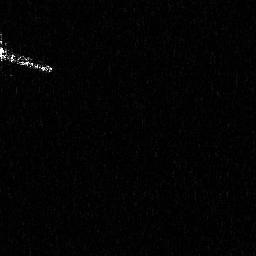ship: (1, 32, 55, 78)
